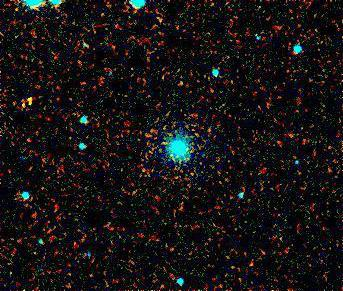star: (12, 93, 42, 123)
